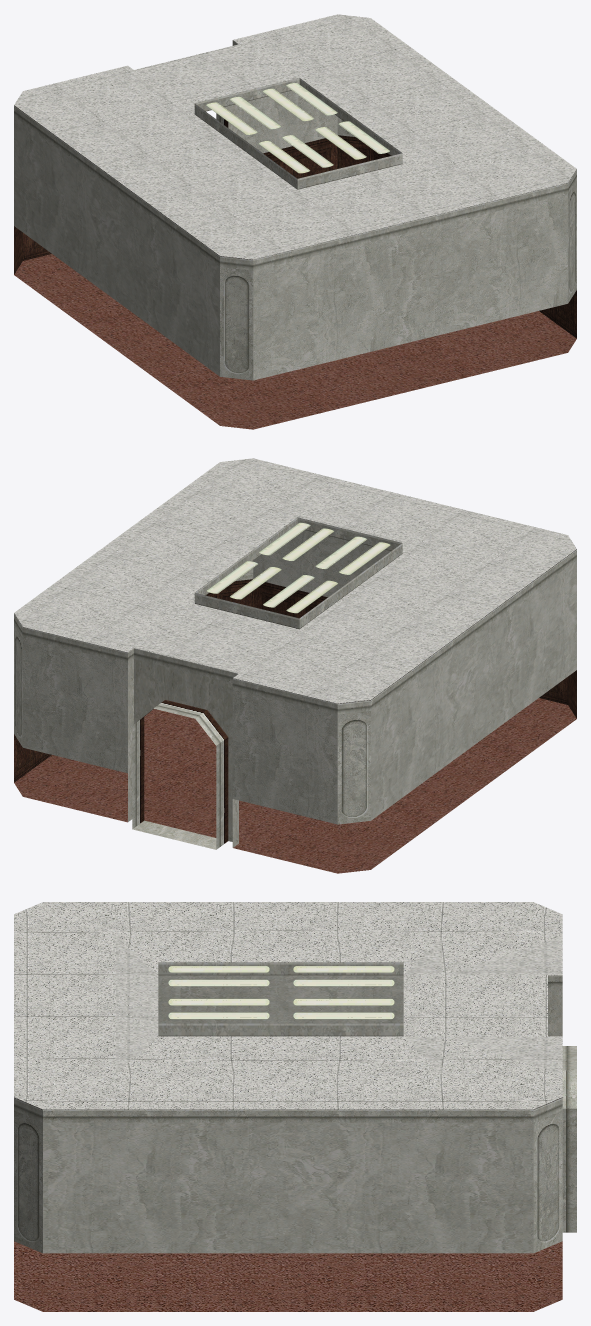
The model's file is mun_nboo_guild_university_s01_r6_meetingb_mesh_meetingb.fbx.
3 views of the same model, one above another, from view 1: azimuth 30°, elevation 25°; view 2: azimuth 150°, elevation 25°; view 3: azimuth 270°, elevation 25° (orthographic). The views are drawn at different scales.
Parts seen in each view (by area): view 1: mesh_node; view 2: mesh_node; view 3: mesh_node.
Part boxes in pixels (<box>): mesh_node: <box>14,14,576,429</box>; mesh_node: <box>14,458,576,873</box>; mesh_node: <box>14,902,576,1311</box>.
Bounding box in the file's own units: 8.5 × 4.12 × 9.75.
